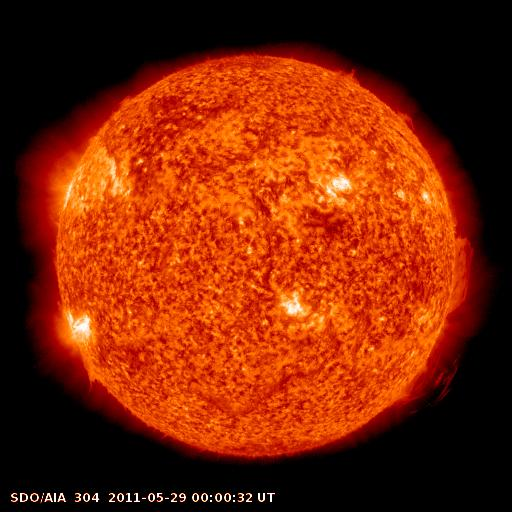prominence: (406, 348, 470, 406), (436, 233, 478, 316), (72, 352, 113, 397), (389, 103, 422, 143)
